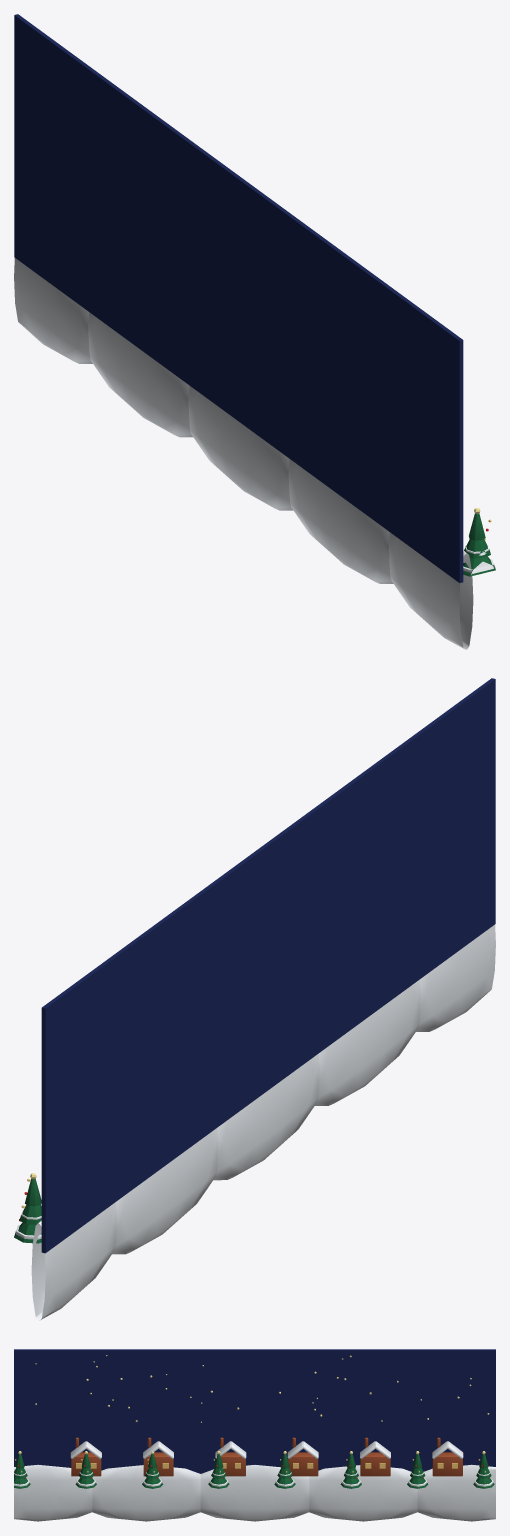
Rendered from BackdropNewYear.fbx.
3 renders of one model, top to bottom at view 1: azimuth 30°, elevation 25°; view 2: azimuth 150°, elevation 25°; view 3: azimuth 270°, elevation 25°, orthographic. The views are drawn at different scales.
Visible parts, largest first — view 1: BackdropNewYear; view 2: BackdropNewYear; view 3: BackdropNewYear.
Part boxes in pixels (x1,y1,x2,y2): BackdropNewYear: [14, 14, 495, 649]; BackdropNewYear: [14, 678, 495, 1320]; BackdropNewYear: [14, 1349, 495, 1521].
Bounding box in the file's own units: 424 × 3120 × 8000.
